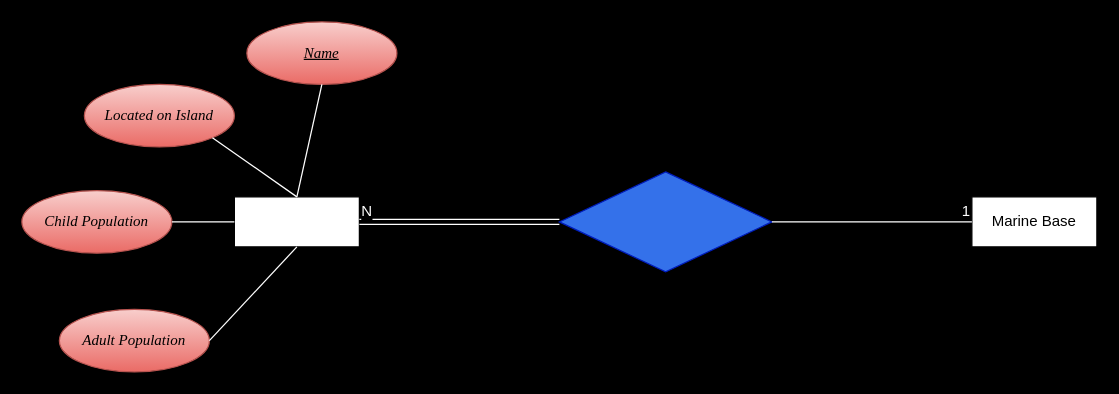
The diagram is 1119 pixels wide and 394 high, and some of its shapes have lost their labels. Each missing label, with the centre of its shape:
"Under Supervision Of" goes at point (665, 221).
"Village" goes at point (296, 221).
